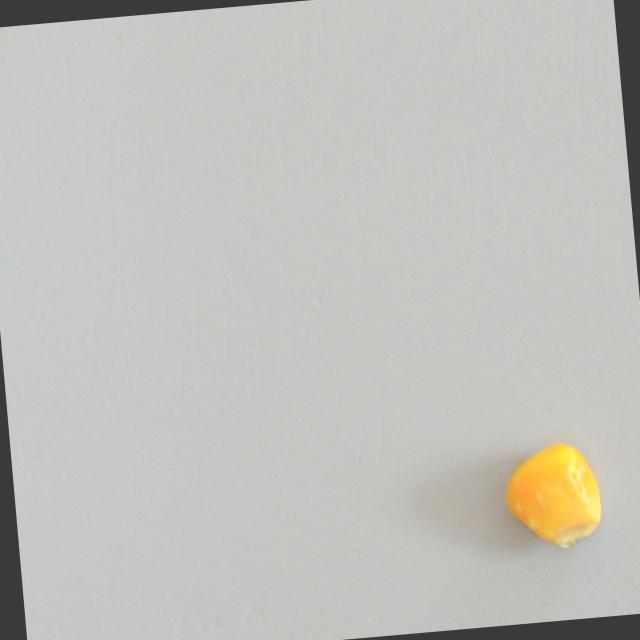pelicula: (499, 438, 607, 554)
